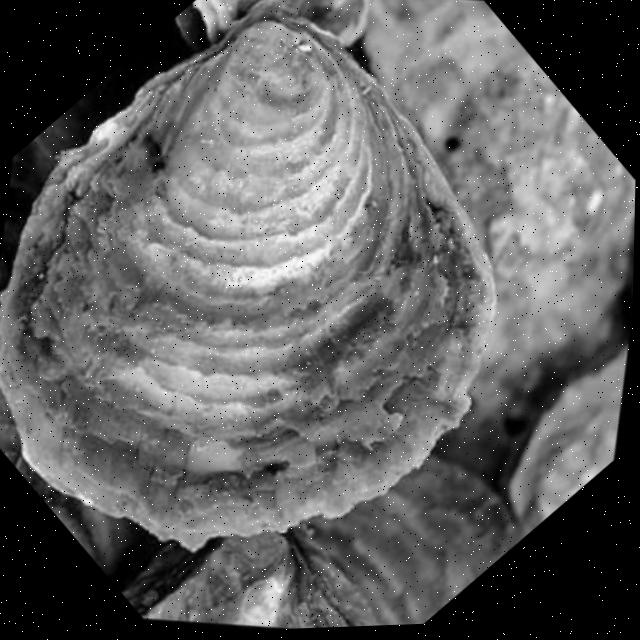Oyster-Indeterminate: (0, 0, 493, 548), (363, 0, 635, 455), (292, 456, 516, 626), (146, 530, 287, 624), (280, 0, 371, 46), (191, 0, 263, 42)
Oyster-Open: (510, 350, 626, 533)
